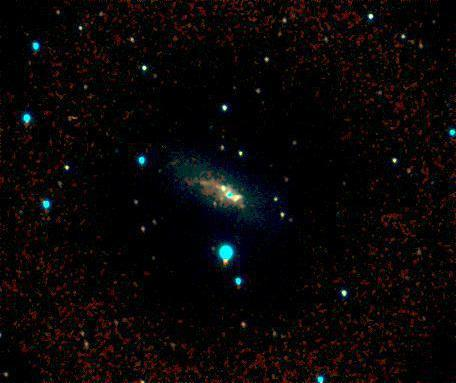star: (228, 192, 258, 222)
